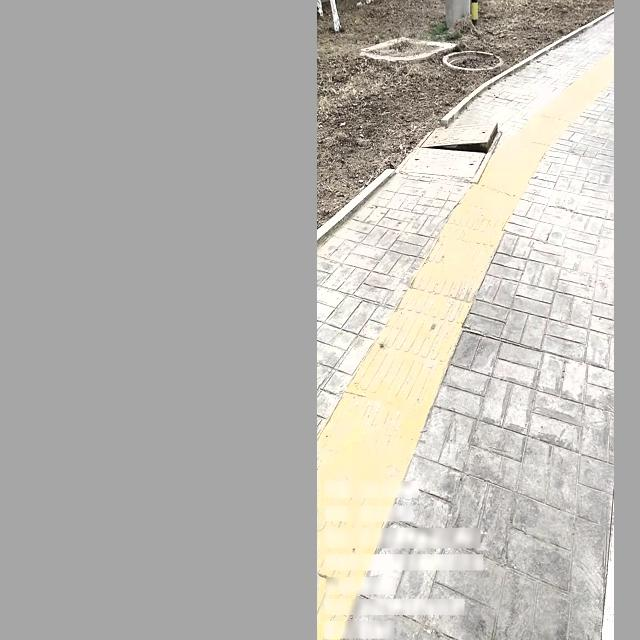uncovered: (408, 112, 503, 181)
